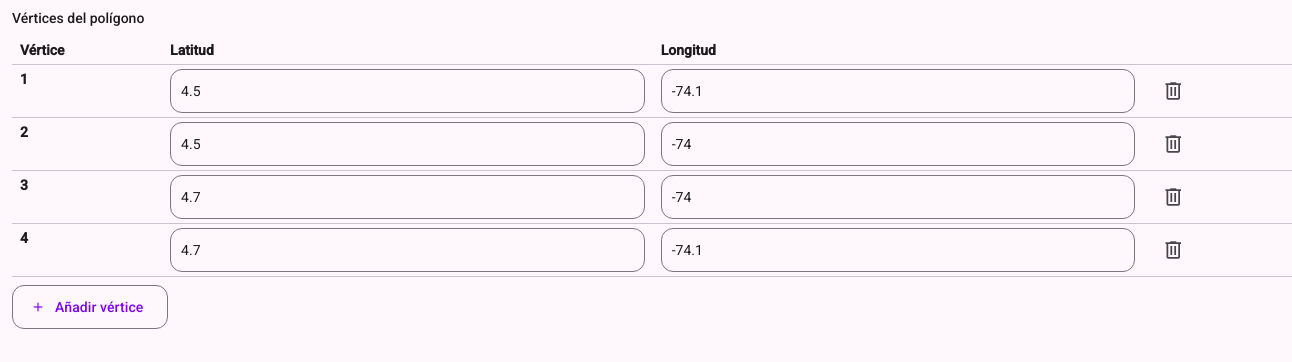
Scenario: VertexTableComponent › un campo vacío es obligatorio y no cambia la lista
Clear the number field named "Longitud del vértice 2" at x=898, y=144, box [661, 122, 1135, 166]
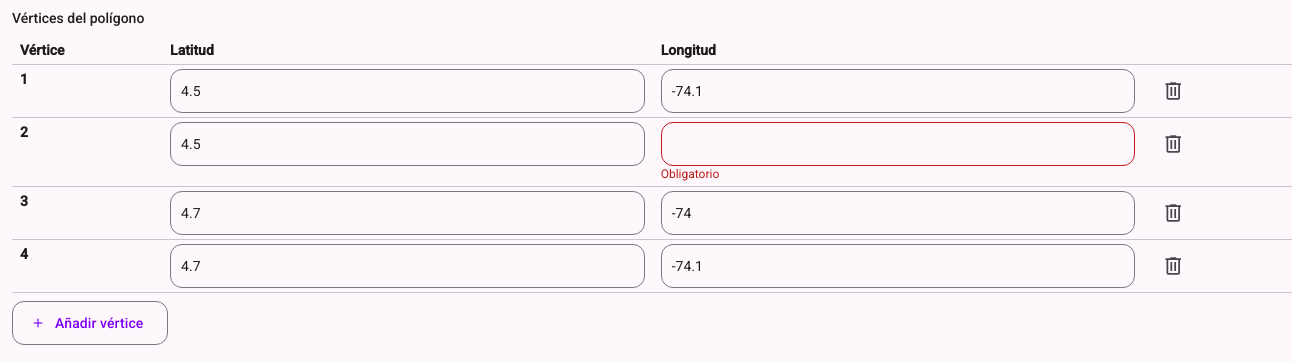
Now the message with class "error" reads "Obligatorio", box [661, 167, 719, 181]
